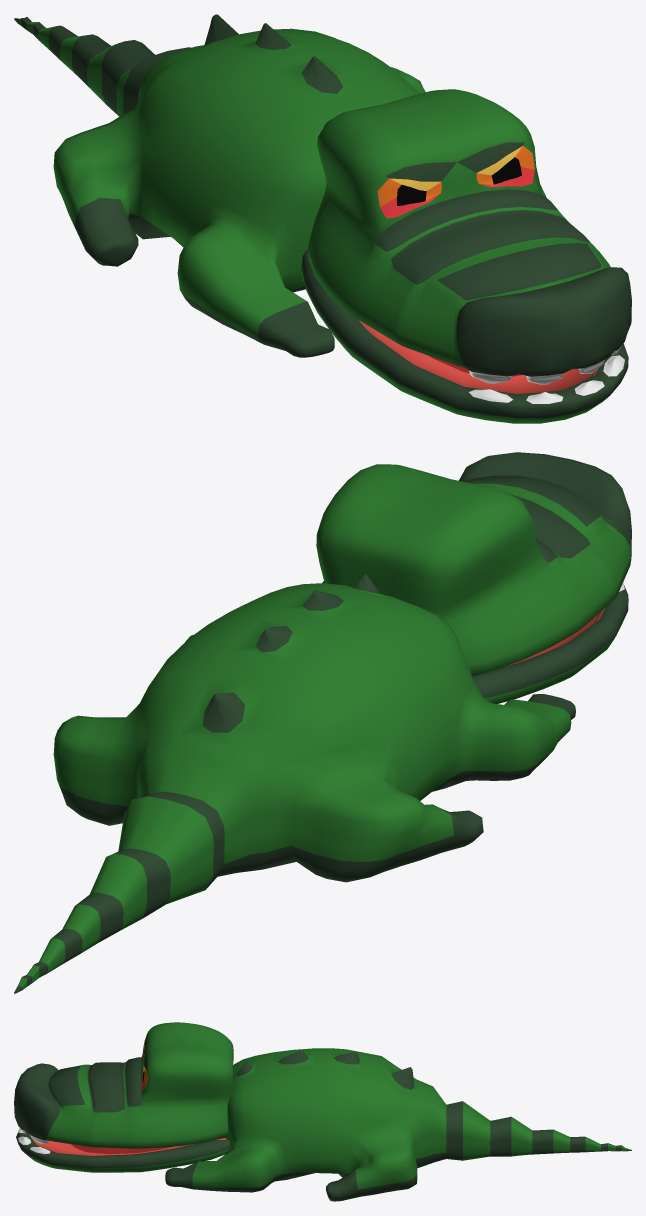
Rendered from CROCODILE.fbx.
The picture shows the model from 3 angles, top to bottom: view 1: azimuth 30°, elevation 25°; view 2: azimuth 150°, elevation 25°; view 3: azimuth 270°, elevation 25°; orthographic projection. The views are drawn at different scales.
Parts seen in each view (by area): view 1: Cube.002, CUERPO.001; view 2: CUERPO.001, Cube.002; view 3: CUERPO.001, Cube.002.
Part boxes in pixels (box(x1,y1,x2,y2)): Cube.002: box(301, 89, 631, 423); CUERPO.001: box(14, 14, 546, 357); CUERPO.001: box(14, 574, 575, 993); Cube.002: box(316, 452, 631, 703); CUERPO.001: box(165, 1048, 631, 1201); Cube.002: box(14, 1022, 233, 1172).
Bounding box in the file's own units: 693 × 368 × 1722.
